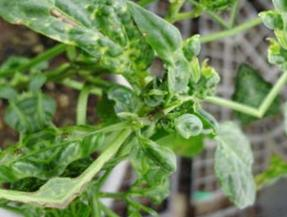Tomato leaf mosaic virus: (4, 0, 163, 114), (117, 121, 183, 194), (38, 115, 112, 178)
